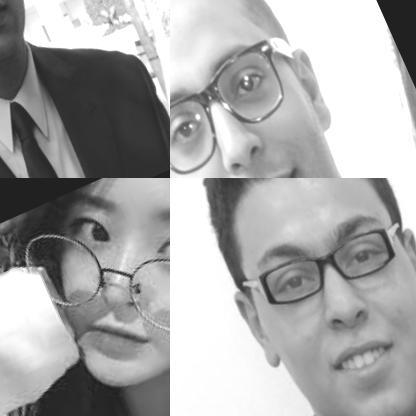glasses: (5, 178, 169, 385), (217, 195, 415, 336), (170, 27, 314, 177)
